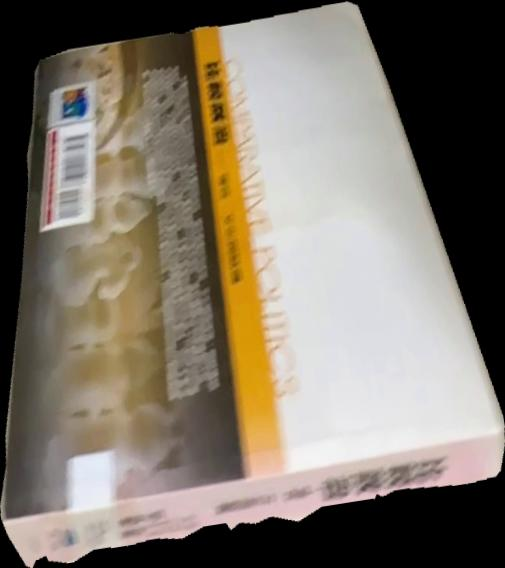flat: (1, 1, 505, 568)
